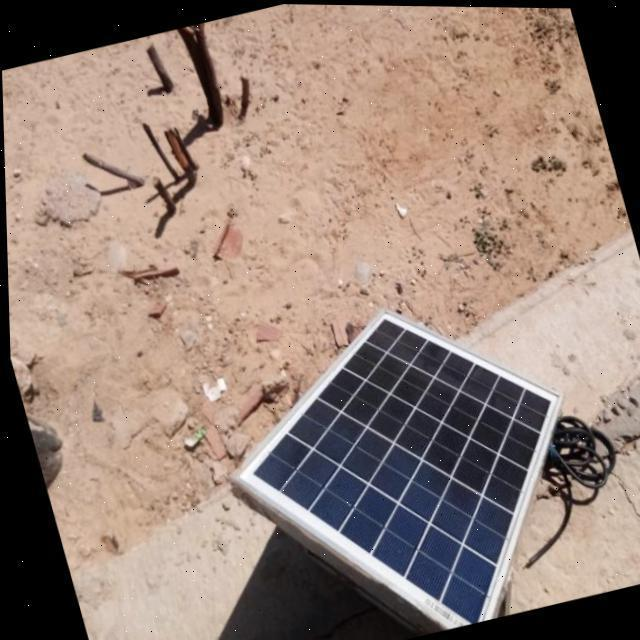Normal Solar Panel: (191, 266, 610, 640)
